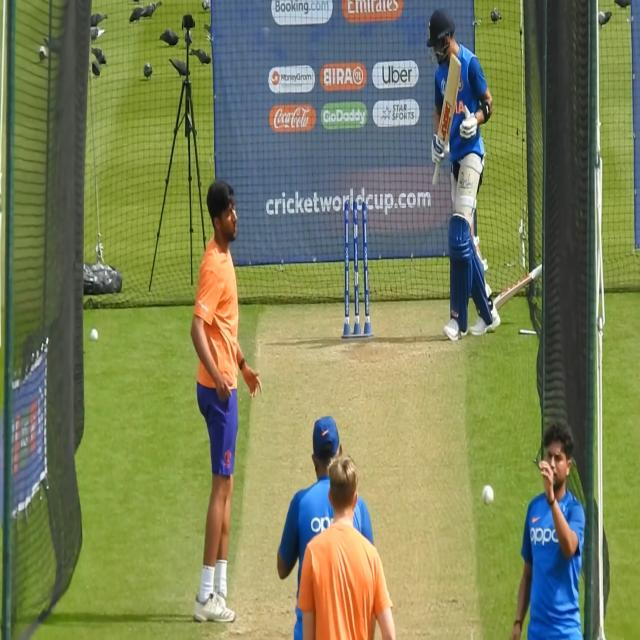ball: (481, 482, 495, 509), (89, 325, 99, 346)
stump: (342, 197, 372, 342)
